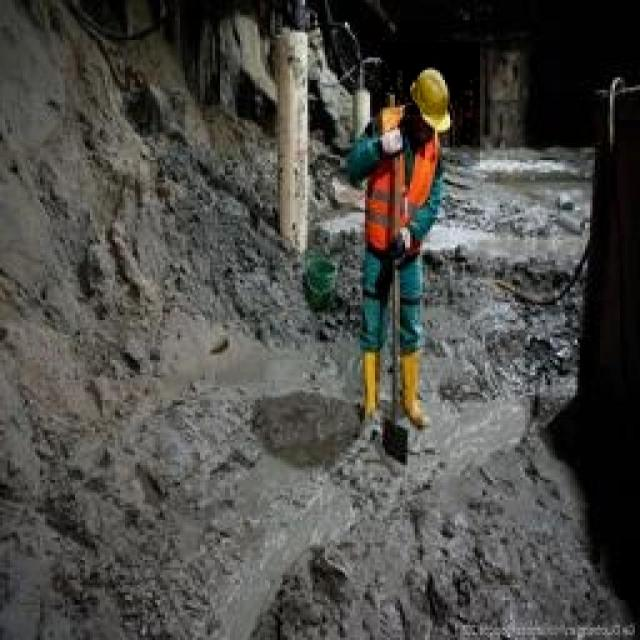Helmet: (382, 42, 480, 166)
Safety Vest: (360, 115, 450, 297)
